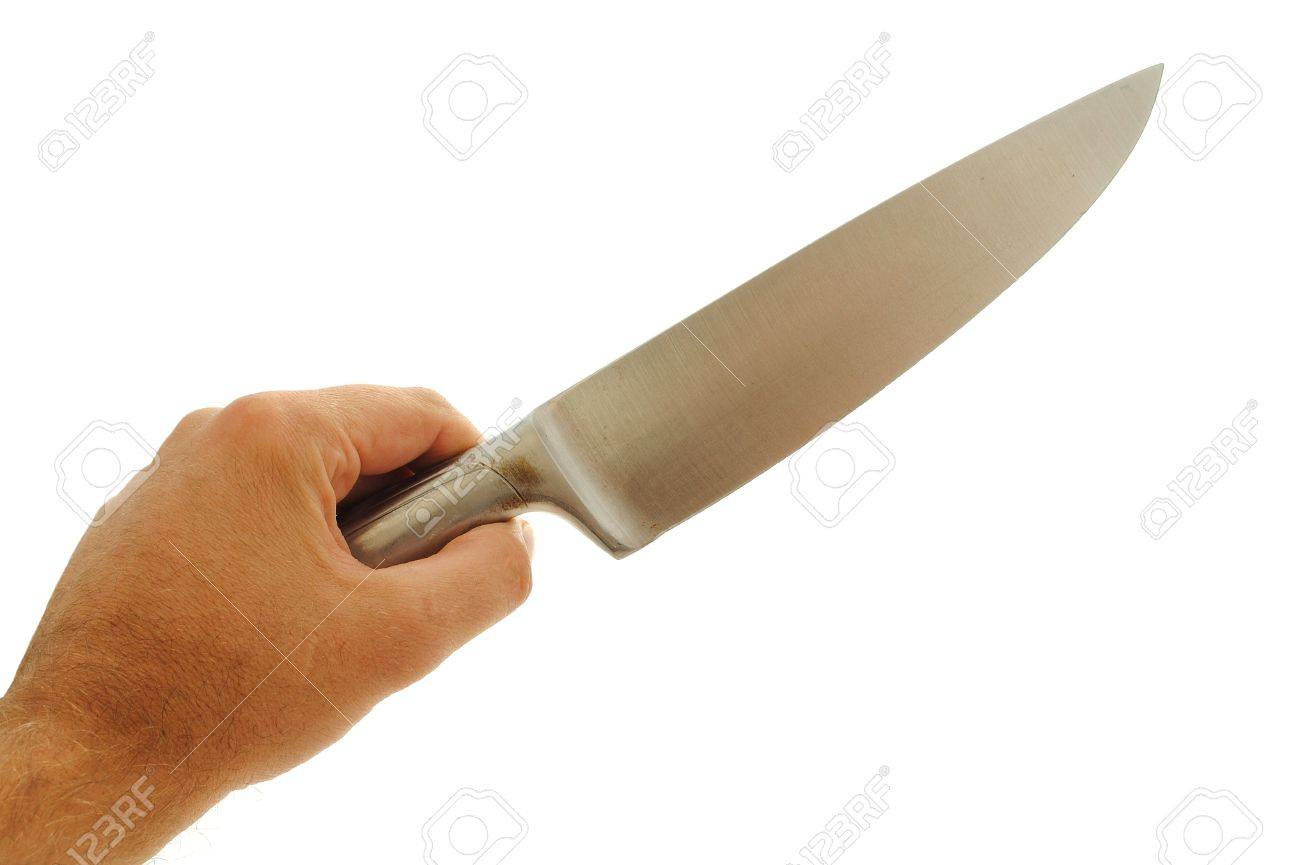knife: (211, 44, 1178, 618)
